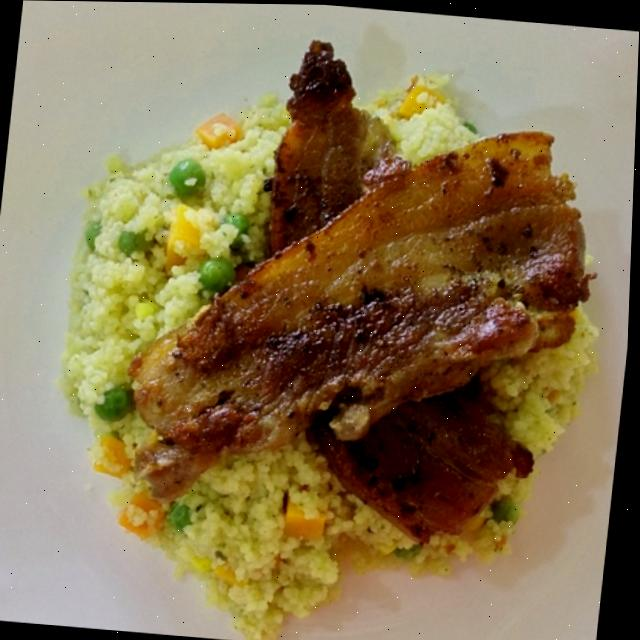猪肉菜式: (20, 23, 638, 640)
